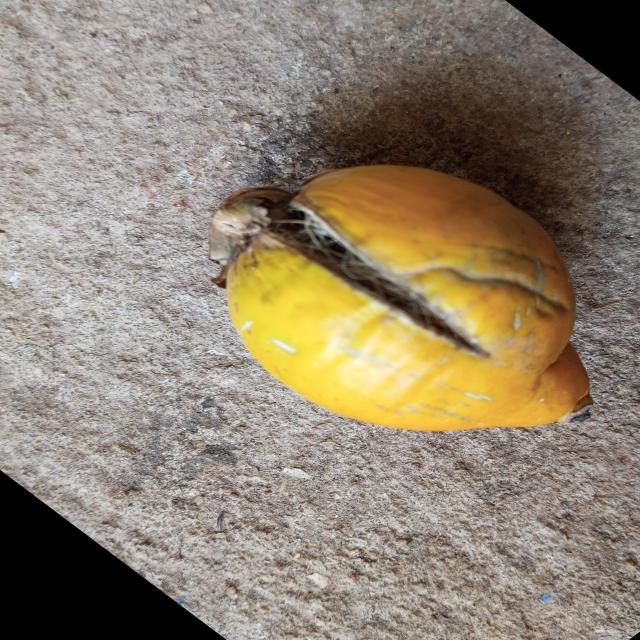damaged: (210, 165, 594, 435)
